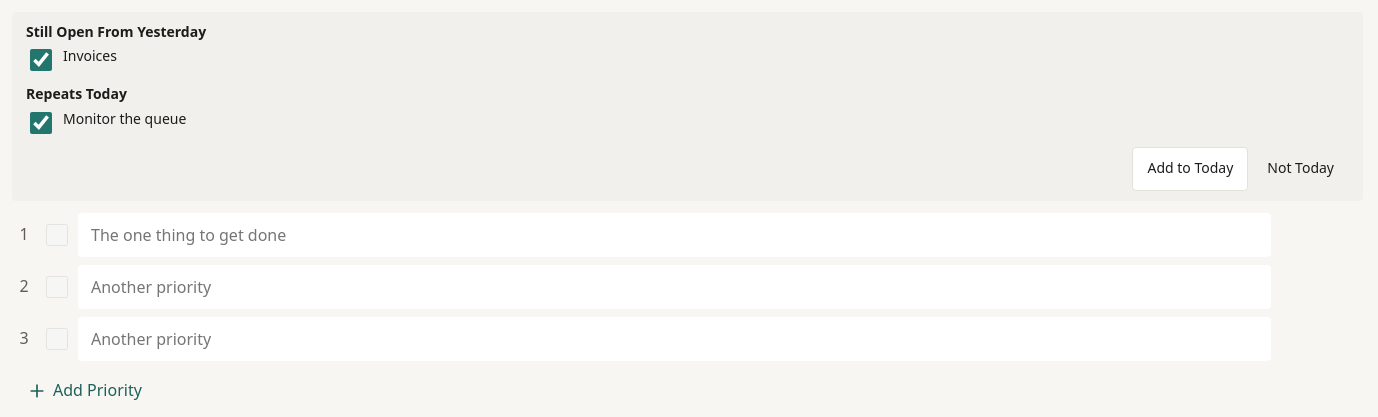
Priorities: the morning offer › answers nothing when Add's save fails, and shows the notice again
The width and height of the screenshot is (1378, 417).
Step 1. Click the button "Add to Today" → point(1190, 169), box [1132,147,1248,191]
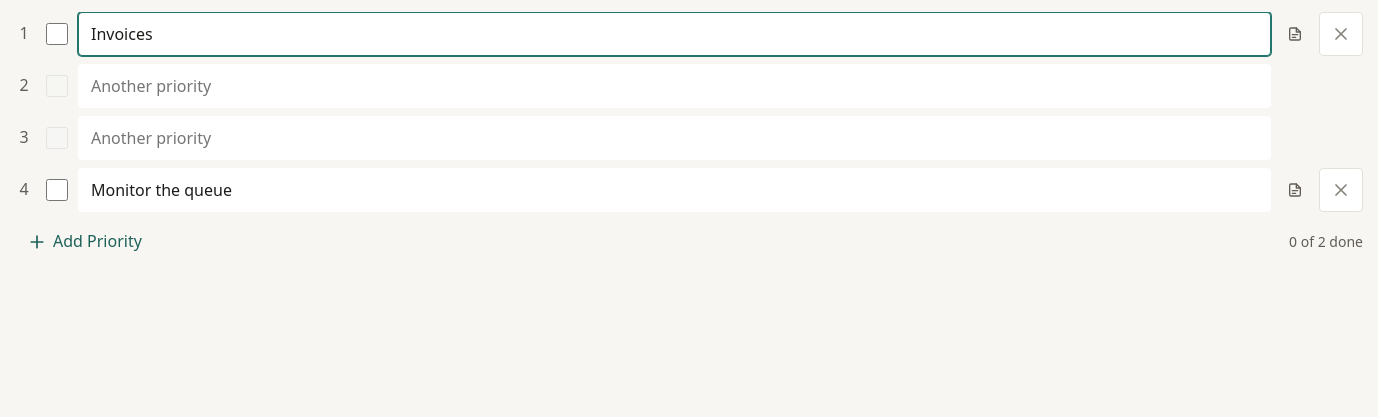
Now the element with class "today-offer" is gone
